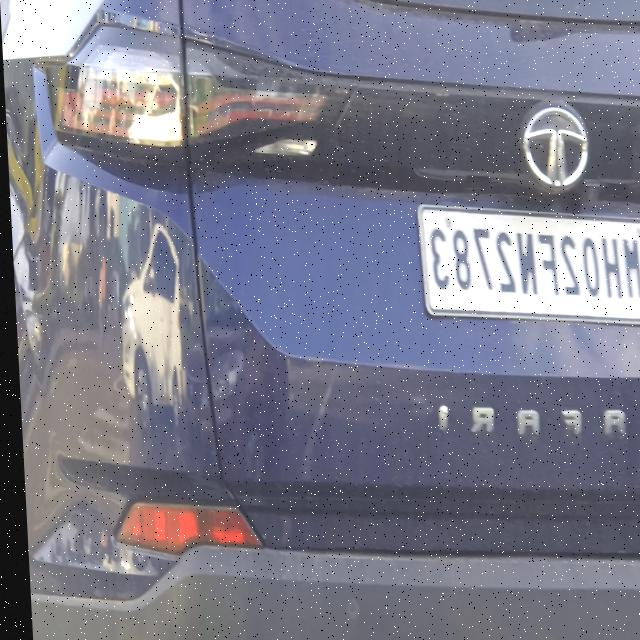plate: (411, 208, 640, 344)
